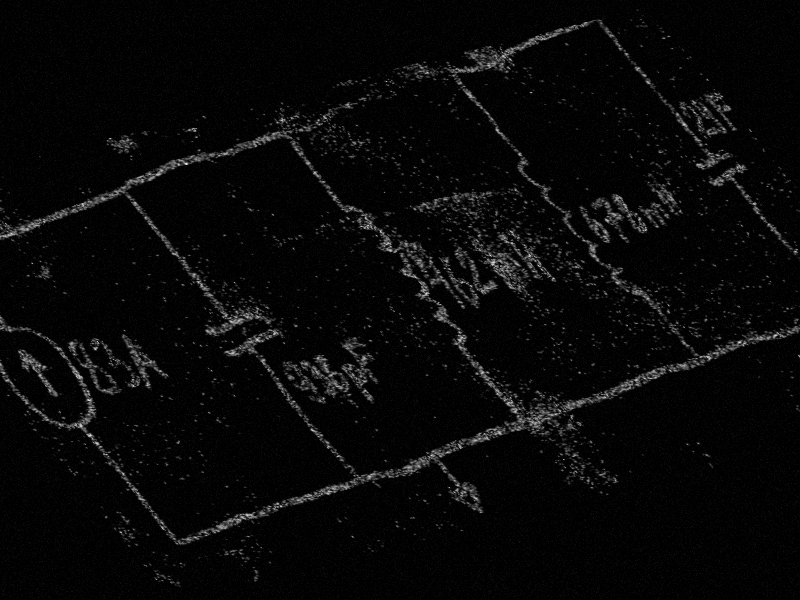2: (444, 243, 506, 297), (672, 98, 719, 141)
3: (81, 334, 150, 393), (293, 354, 345, 401)
4: (405, 251, 472, 314)
6: (426, 251, 492, 312), (571, 203, 620, 247)
7: (583, 194, 645, 248)
8: (56, 335, 130, 401), (306, 348, 360, 396), (604, 190, 655, 237)
9: (270, 356, 335, 412), (687, 95, 732, 137)
A: (103, 326, 178, 388)
F: (336, 335, 395, 387), (698, 88, 751, 134)
H: (495, 228, 562, 287), (640, 174, 690, 220)
m: (479, 249, 539, 291), (632, 199, 680, 232)
p: (335, 360, 390, 408)
